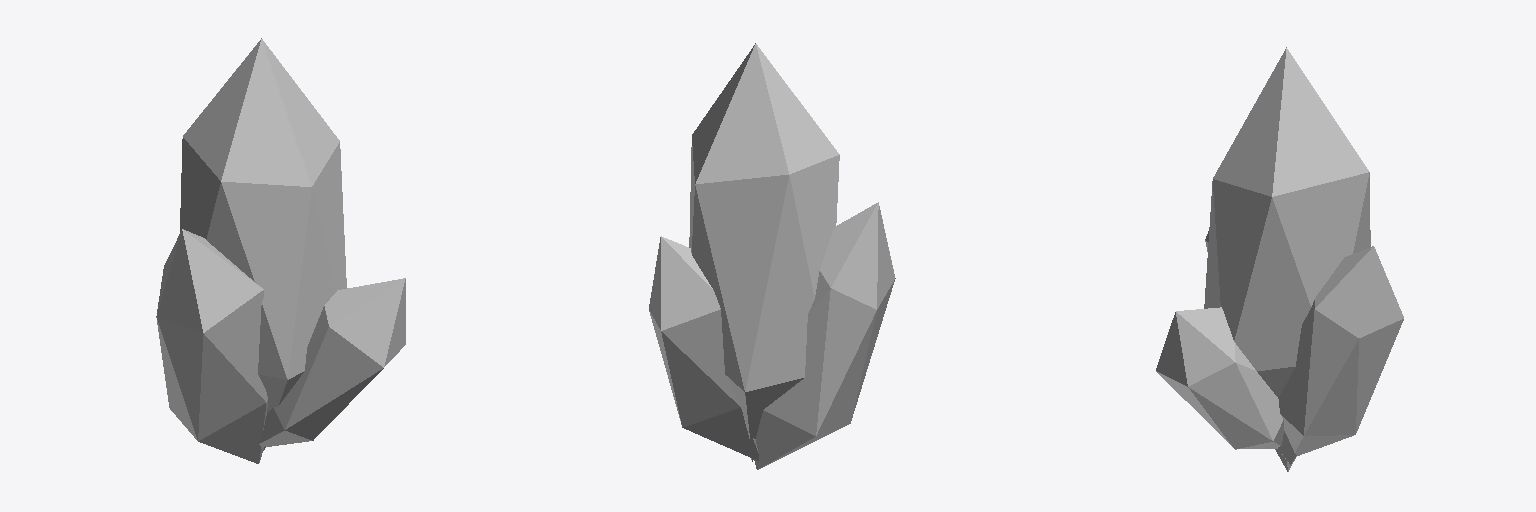
Rendered from crystal.obj.
The picture shows the model from 3 angles: view 1: azimuth 30°, elevation 25°; view 2: azimuth 150°, elevation 25°; view 3: azimuth 270°, elevation 25°; orthographic projection.
Parts seen in each view (by area): view 1: Icosphere.002; view 2: Icosphere.002; view 3: Icosphere.002.
Part boxes in pixels (x1,y1,x2,y2): Icosphere.002: (156, 38, 405, 463); Icosphere.002: (649, 43, 895, 469); Icosphere.002: (1156, 47, 1403, 471).
Bounding box in the file's own units: 2.66 × 5.2 × 2.75.